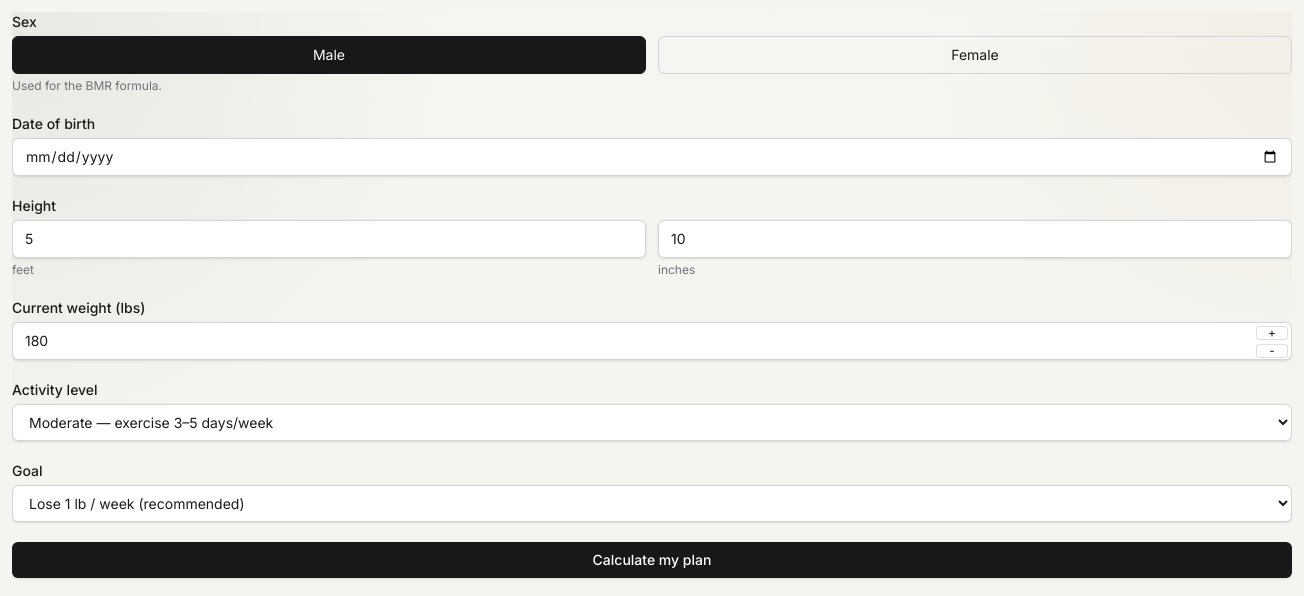
Scenario: OnboardingForm › shows calculated defaults on the plan step and can go back
Type "1990-01-01" into the date field labelled "Date of birth" at coordinates (652, 157), box [12,138,1292,176]
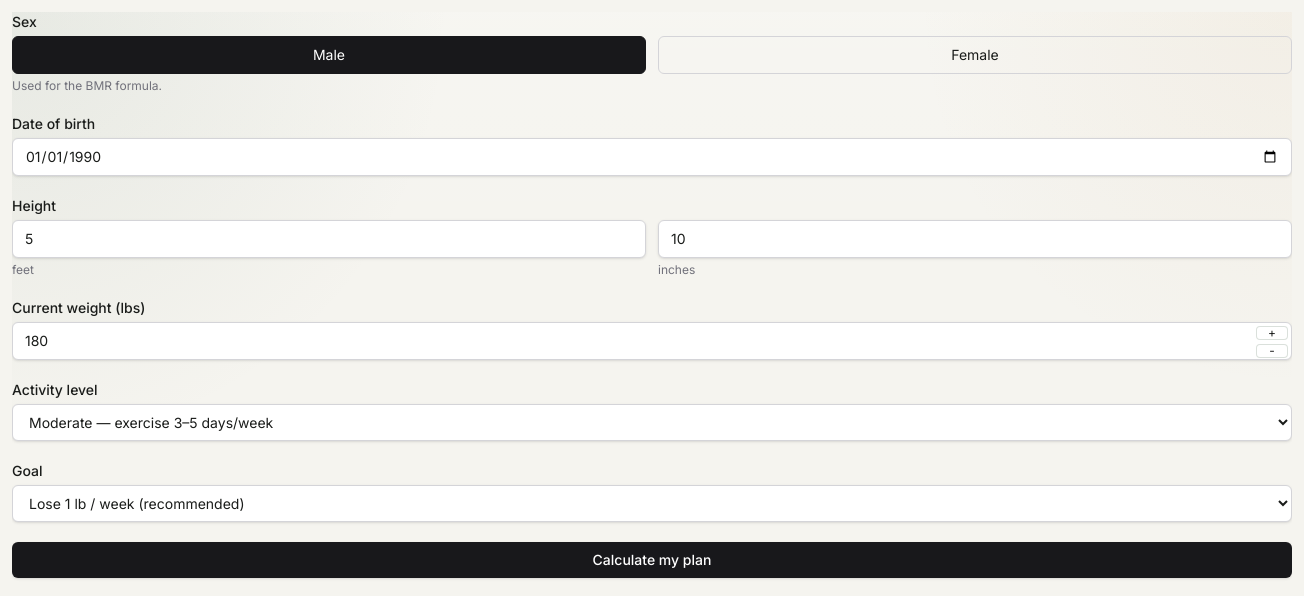
Click the button "Calculate my plan" at coordinates (652, 560), box [12,542,1292,578]
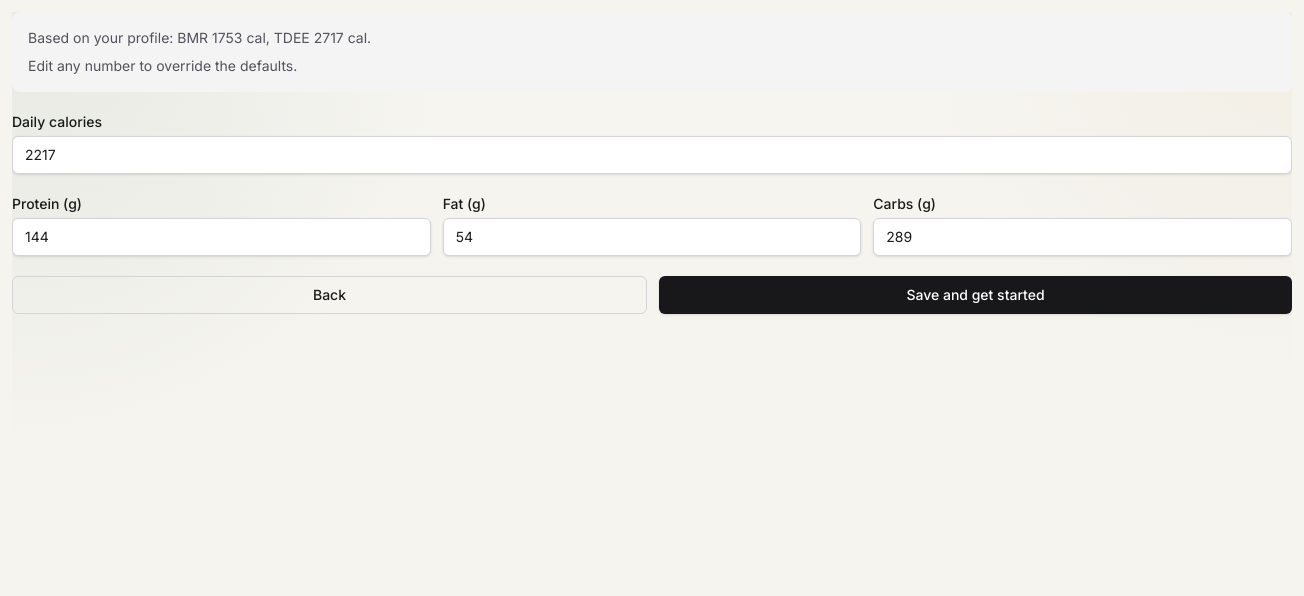
Expected: the text "Based on your profile: BMR 1753 cal, TDEE 2717 cal." is shown, [28,29,371,46]
Expected: the number field labelled "Daily calories" holds "2217", [12,136,1292,174]
Expected: the number field labelled "Protein (g)" holds "144", [12,218,431,256]
Click the button "Back" at coordinates (330, 295), box [12,276,647,314]
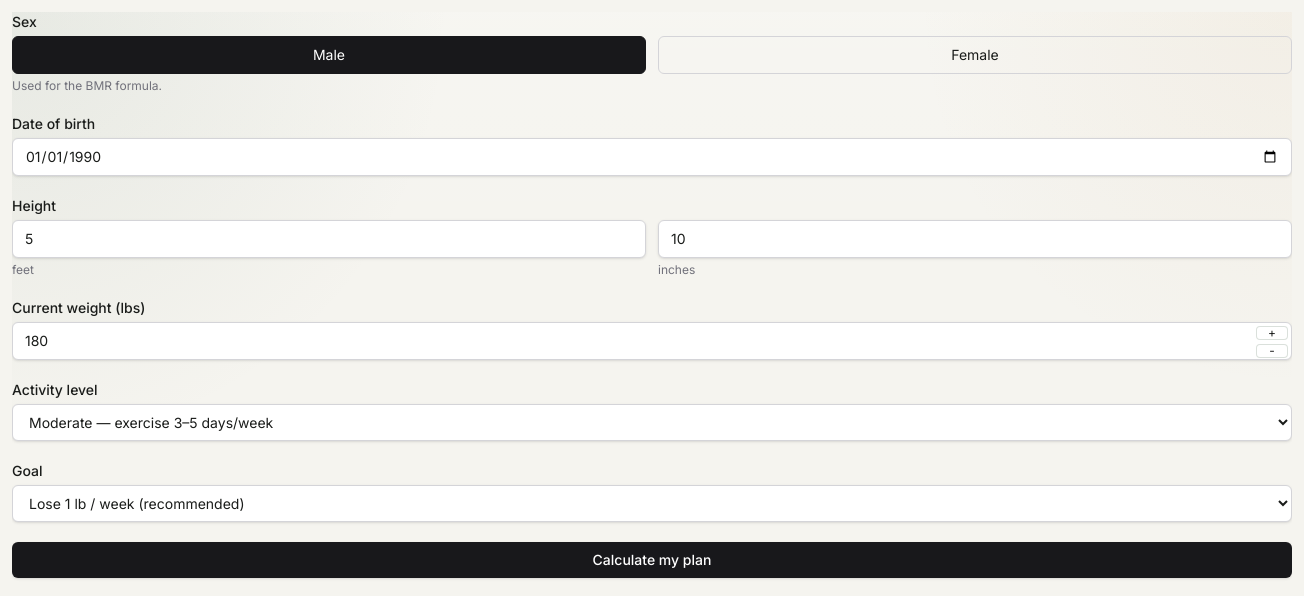
Expected: the button "Calculate my plan" is shown, [12,542,1292,578]
